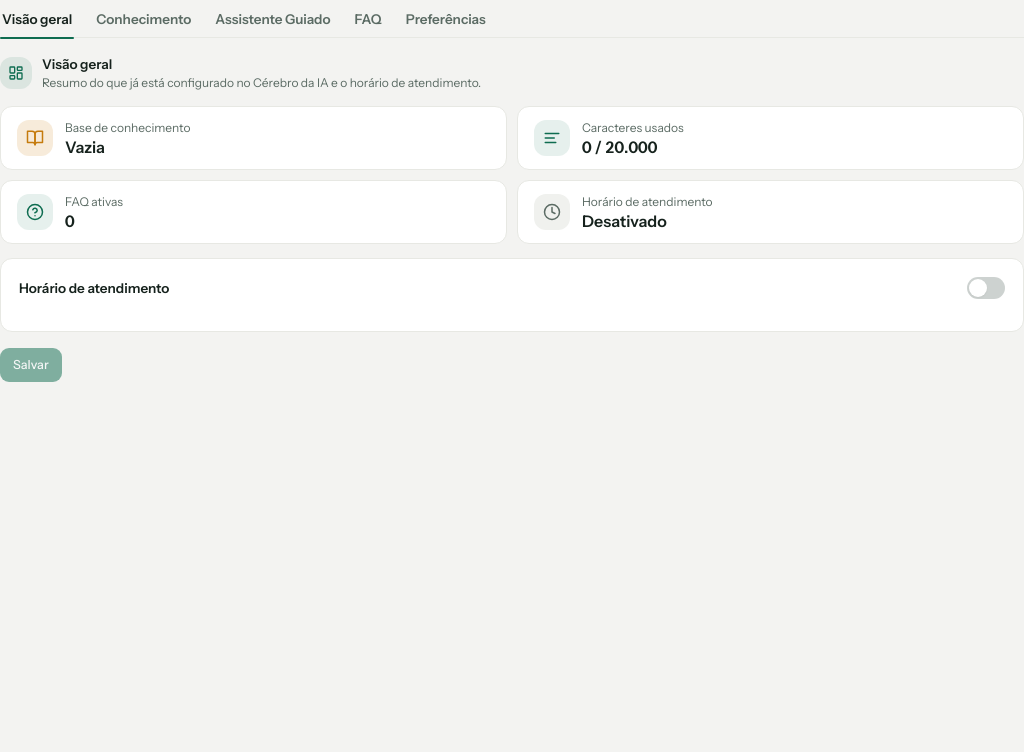
it: AiProfilePanel (Cérebro da IA v3 — 4 abas) › troca para a aba Preferências e monta o AiPreferencesPanel (Cérebro da IA v3, Fase 3)
Click the tab "Preferências" at (446, 19), box [404,0,488,38]
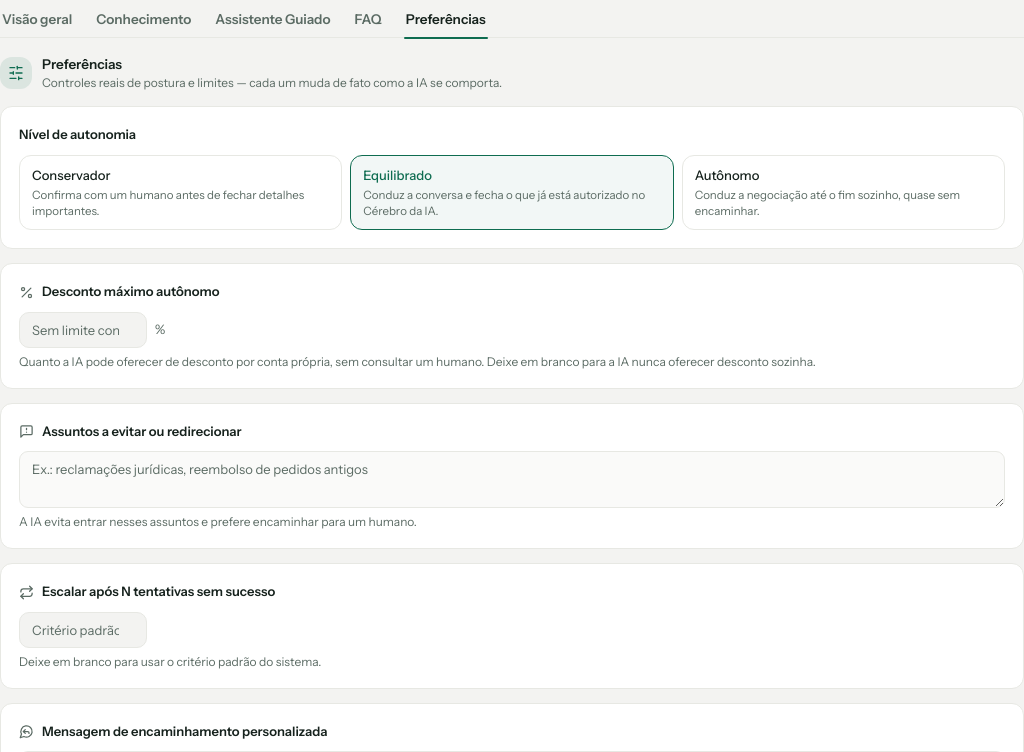
Expected: the element named "Nível de autonomia" is shown, [19,155,1005,230]
